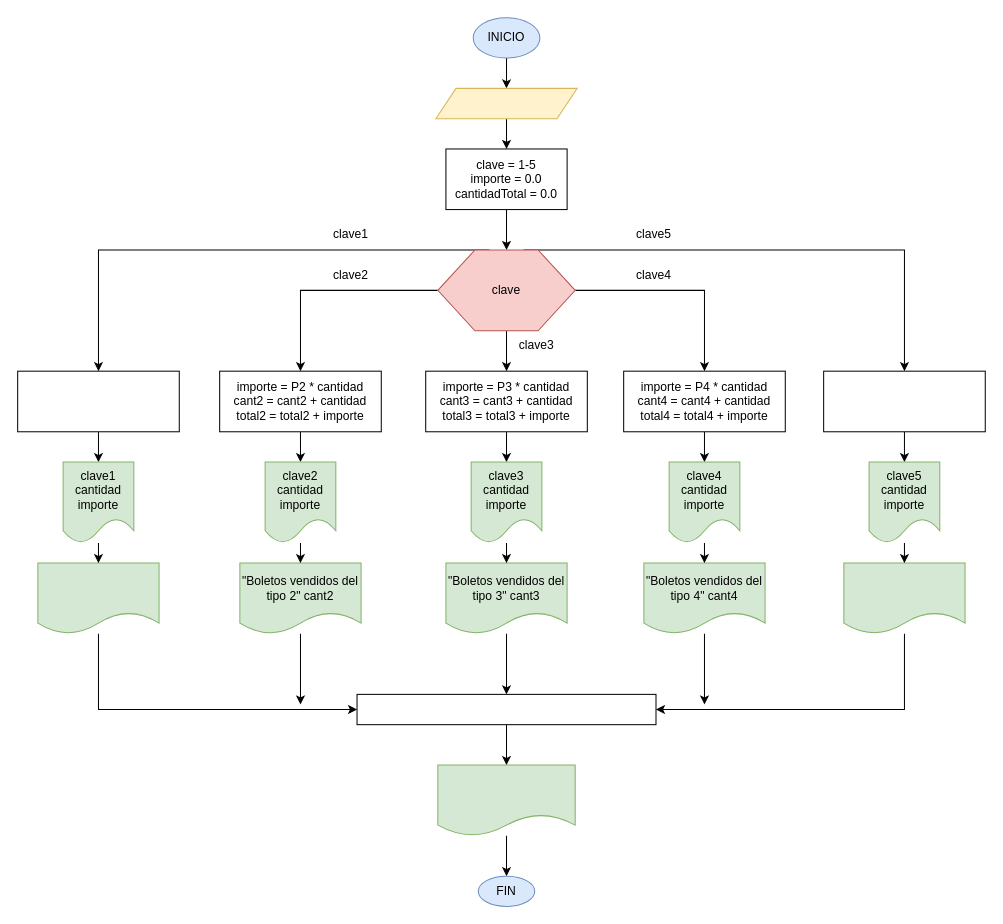
Some shapes in this 1003 by 924 pixel diagram are drawn without their labels. Each missing label, with the centre of its shape:
"Boletos vendidos del tipo 1" cant1: the point at 98,598
"Boletos vendidos del tipo 5" cant5: the point at 904,598
"Recaudación total del estadio" cantidadTotal: the point at 506,800
cantidadTotal = total1 + total2 + total3 + total4 + total5: the point at 506,709
importe = P1 * cantidad cant1 = cant1 + cantidad total1 = total1 + importe: the point at 98,401
importe = P5 * cantidad cant5 = cant5 + cantidad total5 = total5 + importe: the point at 904,401
P1,P2, P3, P4, P5: the point at 506,103
